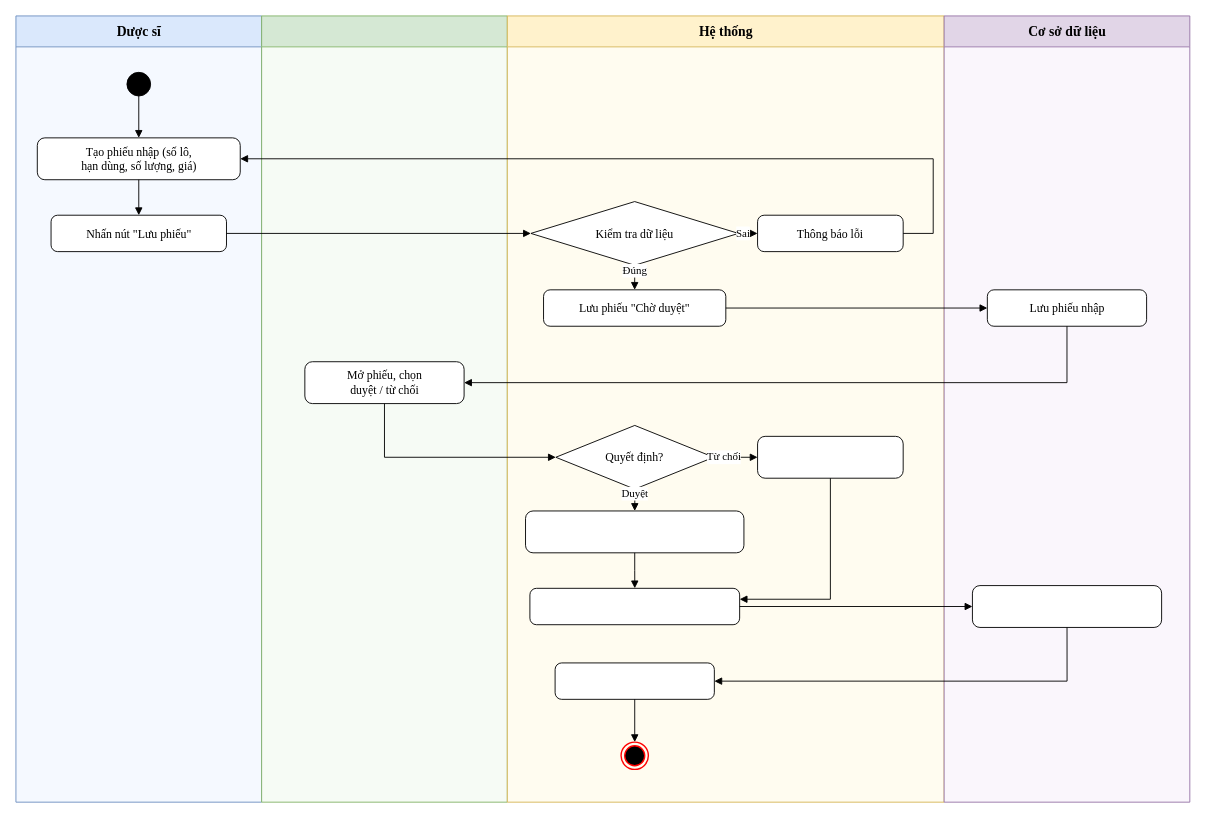
Image size: 1206x818. Some labels were removed from this diagram. Here are the shapes that lost their labels. From the top down, the box of each, then its label:
(261, 15, 507, 802): Dược sĩ quản lý
(757, 435, 903, 478): Cập nhật phiếu "Từ chối"
(525, 510, 744, 553): Tạo lô thuốc, cộng tồn kho, cộng công nợ NCC
(529, 587, 740, 625): Gửi lệnh lưu trữ đến CSDL
(972, 585, 1162, 627): Lưu lô thuốc, tồn kho, công nợ
(554, 662, 714, 699): Hiển thị kết quả
